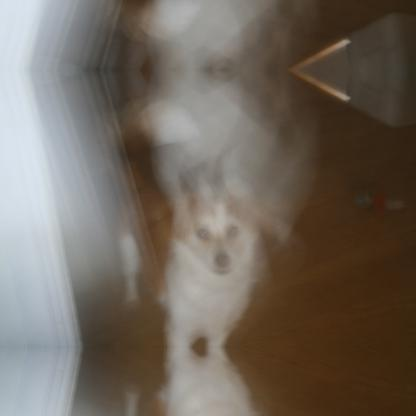Dog: (154, 186, 258, 345), (154, 346, 259, 415)
